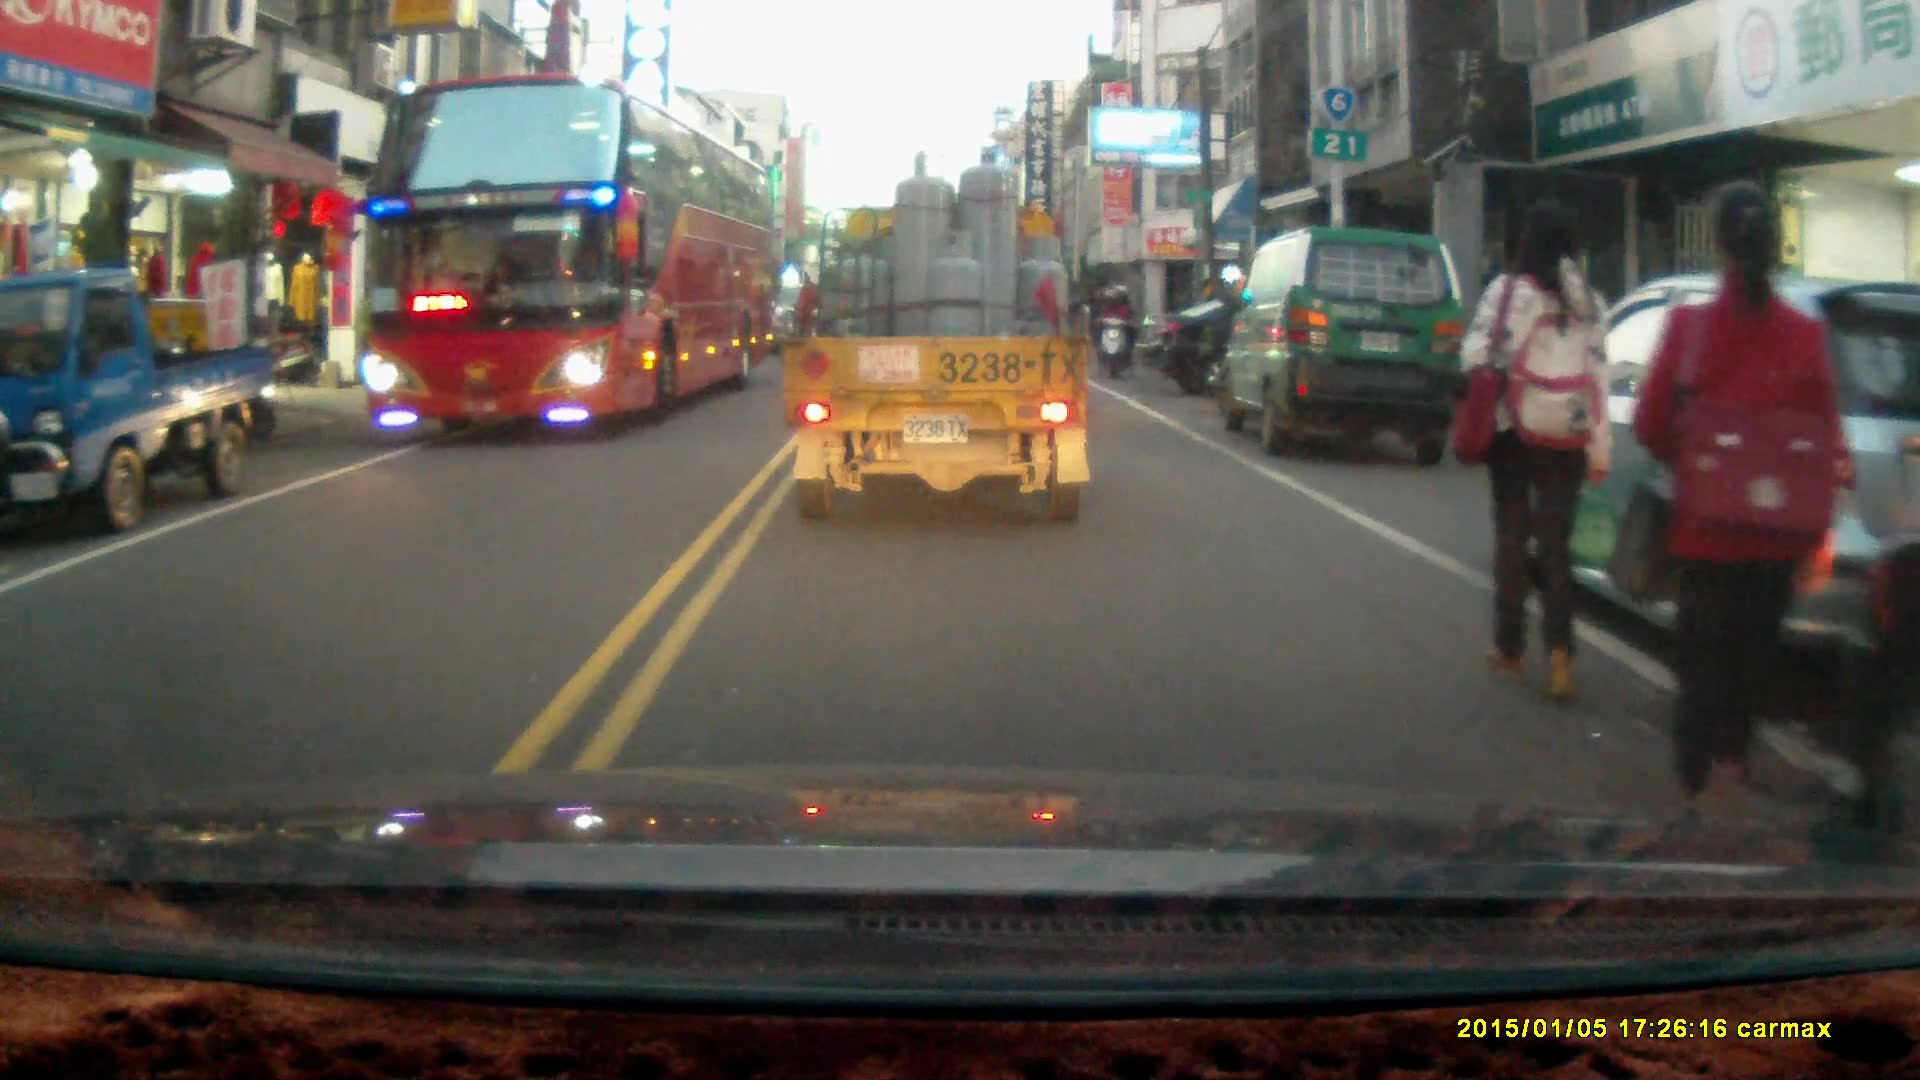pedestrian: (1634, 184, 1850, 891), (1458, 197, 1620, 712)
rider: (1091, 284, 1136, 379)
vehicle: (355, 78, 782, 443), (785, 148, 1095, 533), (1, 267, 281, 536), (1221, 225, 1465, 458), (1133, 303, 1429, 404)
